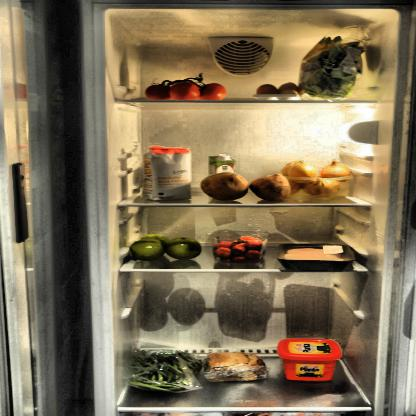apple: (129, 234, 201, 262)
butter: (275, 338, 345, 384)
chicken: (280, 247, 348, 262)
eggs: (254, 83, 303, 97)
green_beans: (128, 347, 206, 392)
heavy_cream: (210, 154, 235, 190)
onion: (283, 160, 352, 198)
spinach: (303, 32, 361, 103)
strawberries: (212, 236, 263, 264)
sweet_potato: (200, 173, 290, 203)
tomato: (144, 80, 232, 102)
